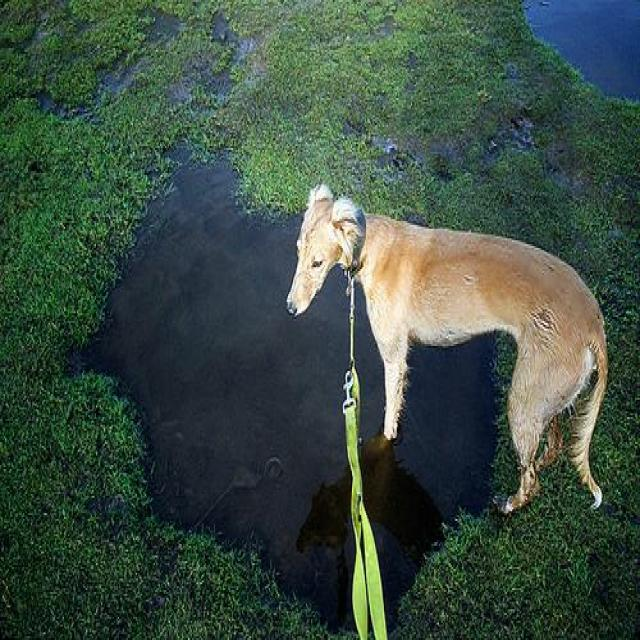saluki: (286, 179, 610, 511)
